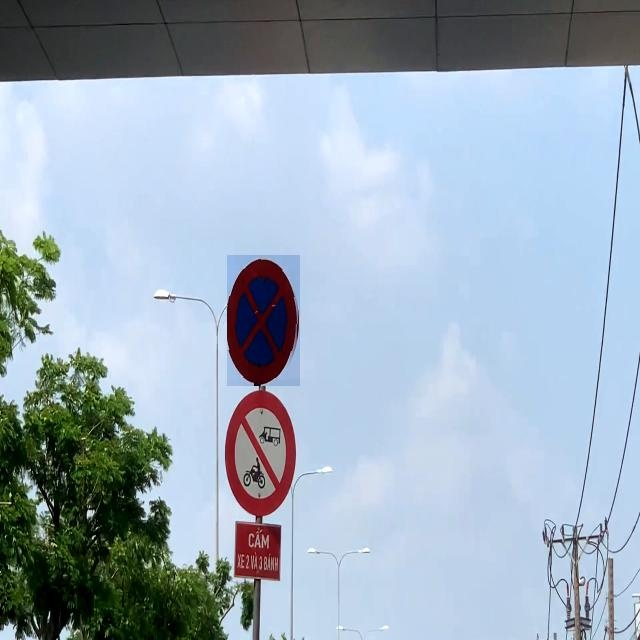bien_cam: (227, 255, 300, 386)
